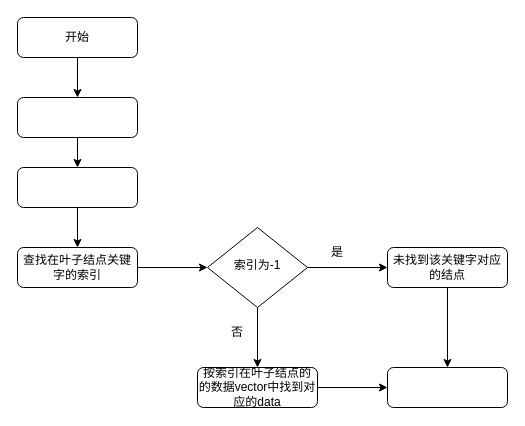
The diagram is 525 pixels wide and 426 high, and some of its shapes have lost their labels. The shapes that lost their labels are listed below. From the top down, each one's box as (x1, y1, x2, y2) in pixels, then its label:
(16, 96, 138, 138): 查找关键字
(16, 166, 138, 208): 找到该关键字对应的叶子结点
(386, 366, 508, 408): 结束
